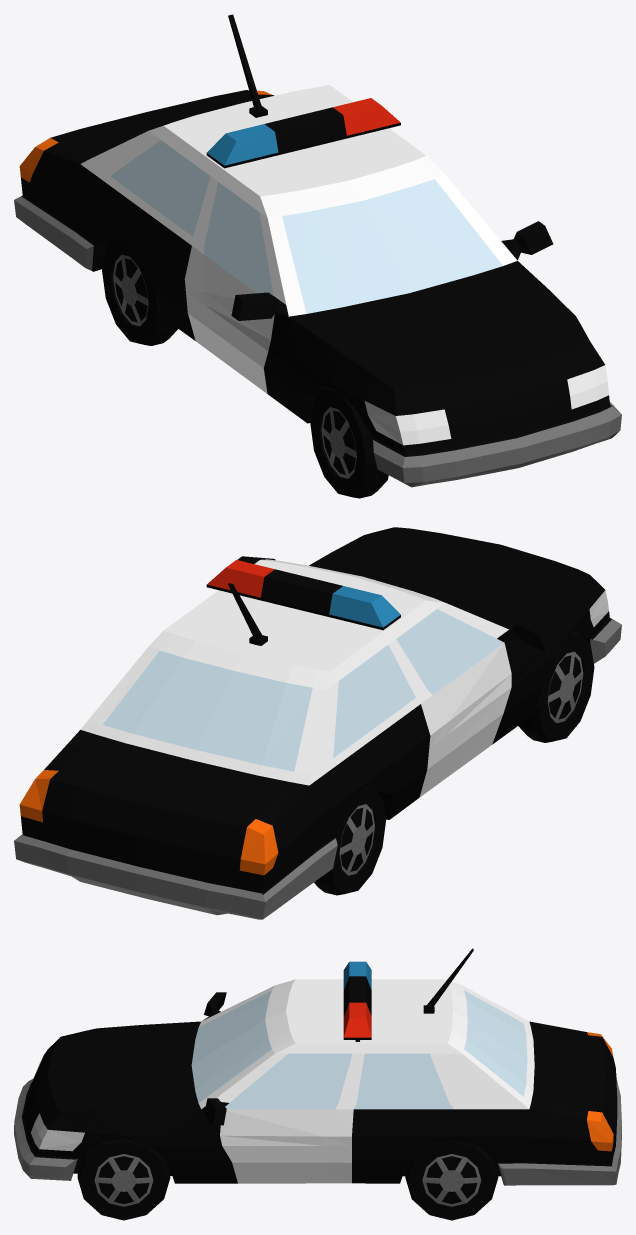
The model's file is 1396 Police Car.gltf.
3 views of the same model, one above another, from view 1: azimuth 30°, elevation 25°; view 2: azimuth 150°, elevation 25°; view 3: azimuth 270°, elevation 25° (orthographic). The views are drawn at different scales.
Parts seen in each view (by area): view 1: node-0; view 2: node-0; view 3: node-0.
Boxes of the visible parts, left/top/right/bottom form: node-0: left=14, top=14, right=621, bottom=498; node-0: left=14, top=527, right=621, bottom=919; node-0: left=14, top=948, right=621, bottom=1220.
Bounding box in the file's own units: 52.25 × 46.25 × 111.
1 material, 1 textured.
